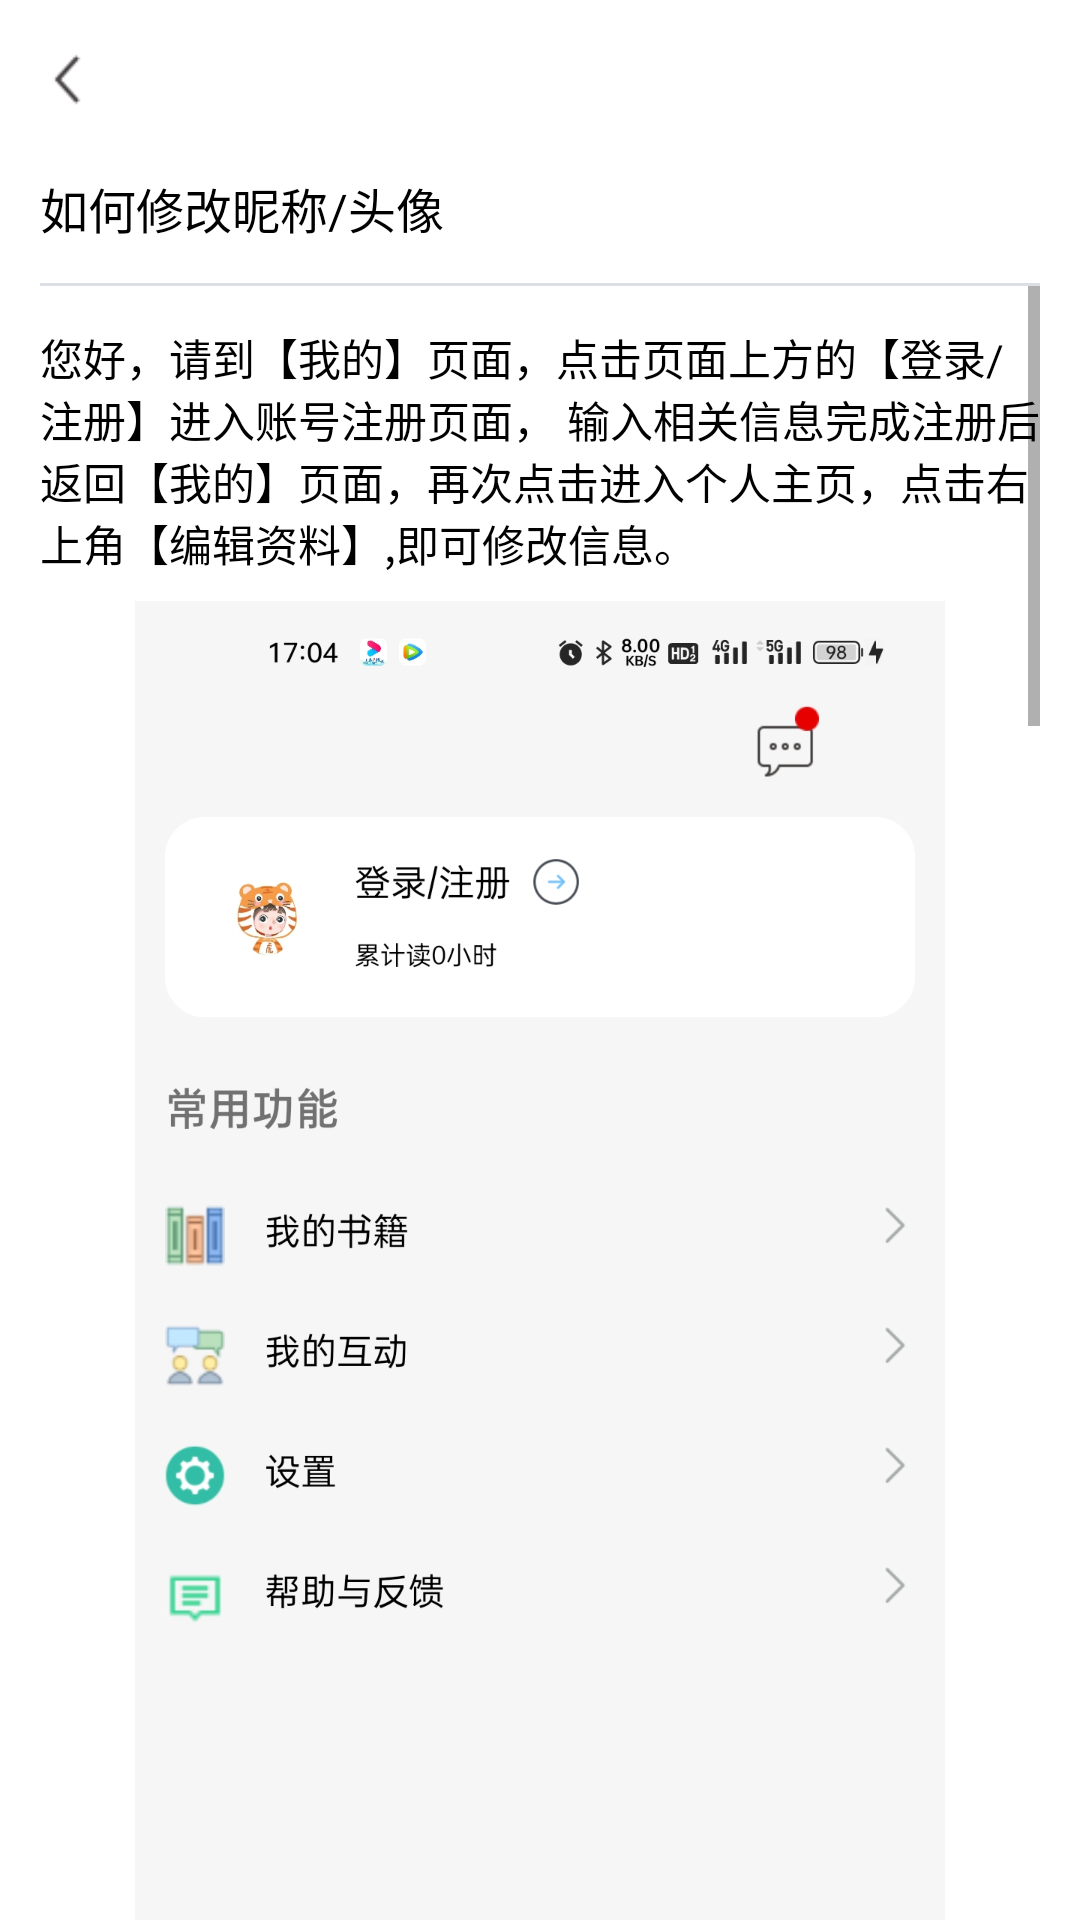

Icon bounding boxes for this 1080w x 1920h phone screenshot, format (left=x1, top=y1, right=x2, bottom=y2):
返回: (left=55, top=55, right=80, bottom=104)
